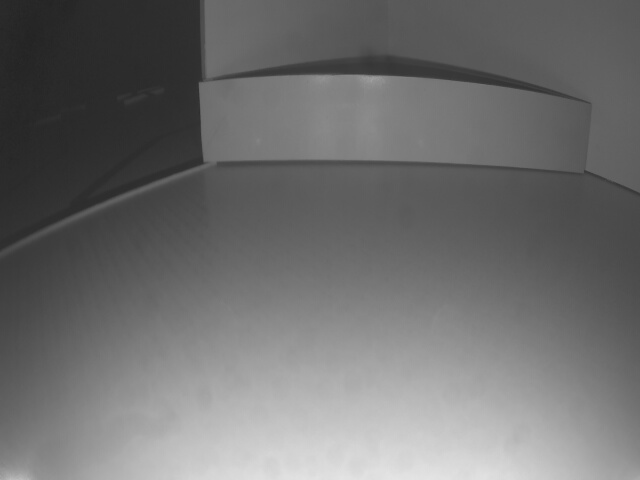Red: (198, 80, 592, 176)
